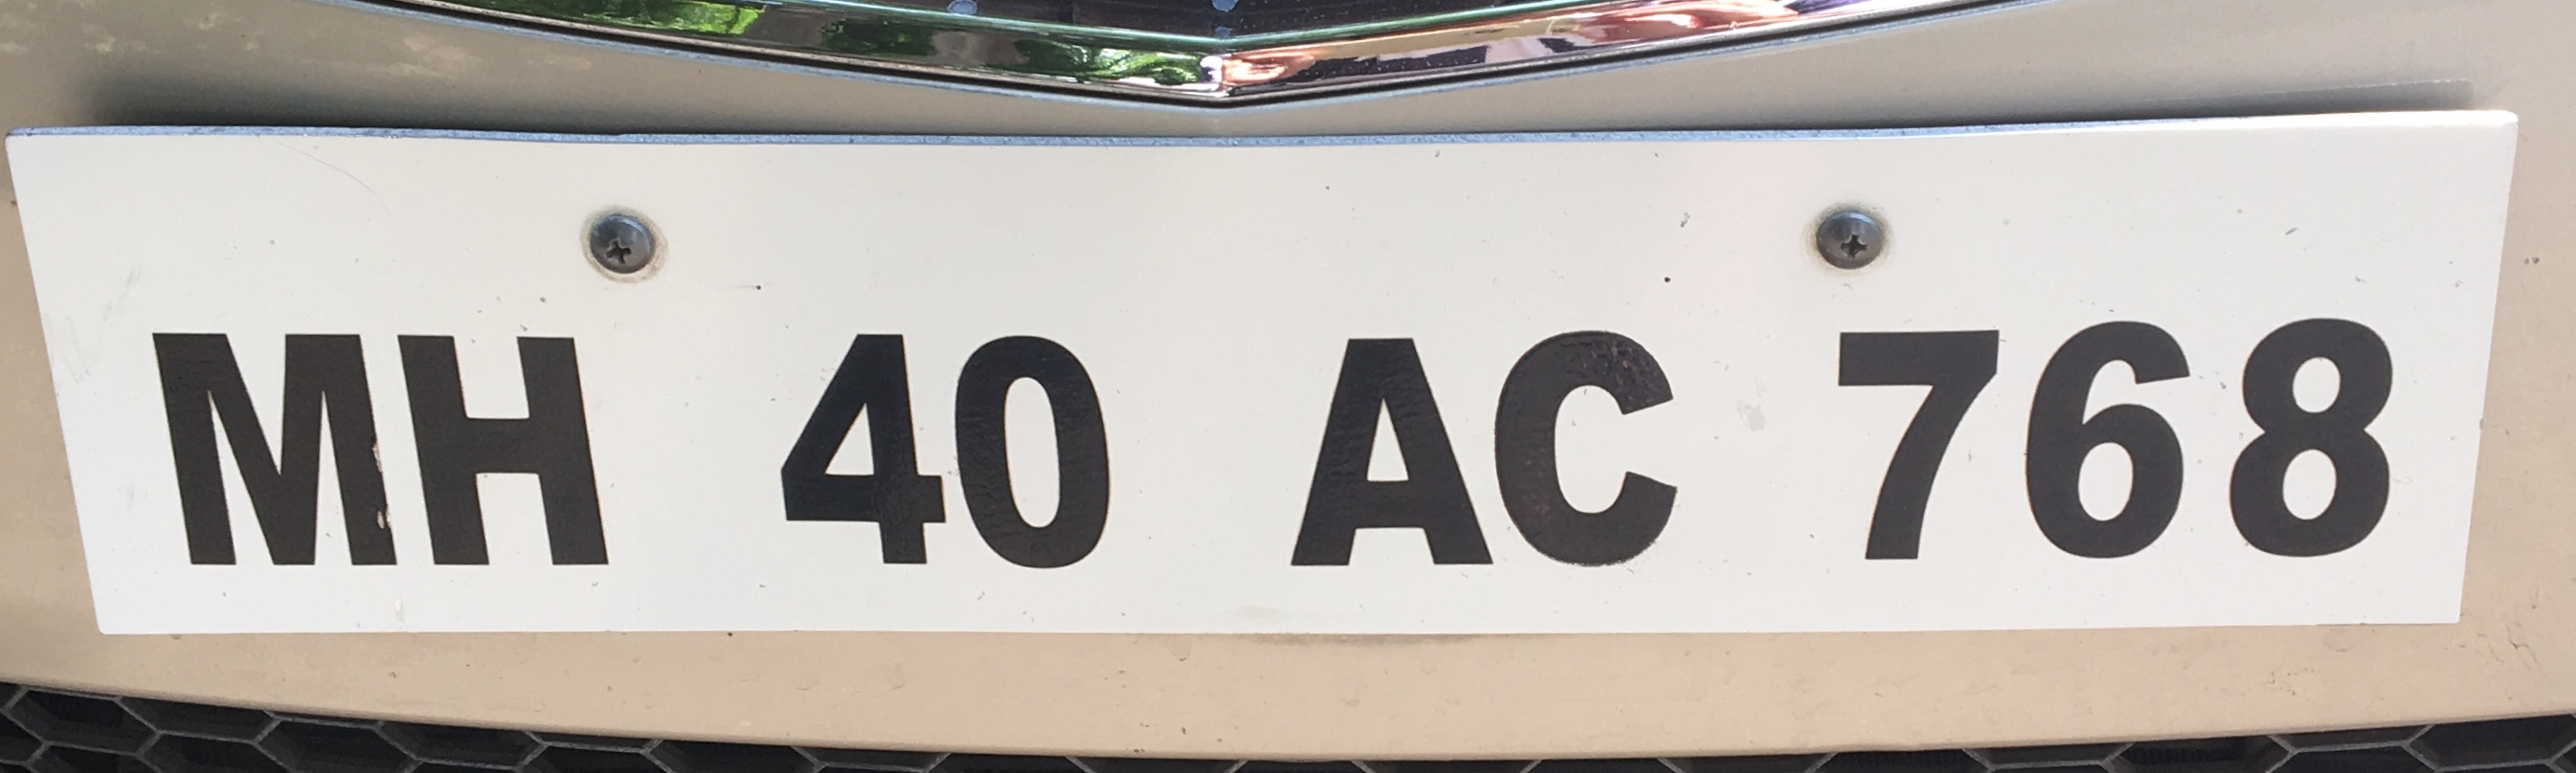numberplate: (6, 128, 2506, 639)
